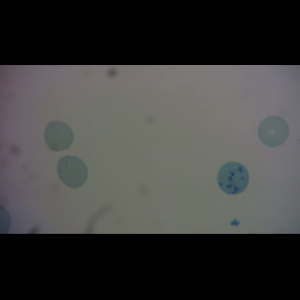aggregate reticulocyte: (216, 160, 250, 196)
erythrocyte: (258, 115, 290, 148), (43, 120, 75, 151)
punctate reticulocyte: (56, 154, 88, 189)
